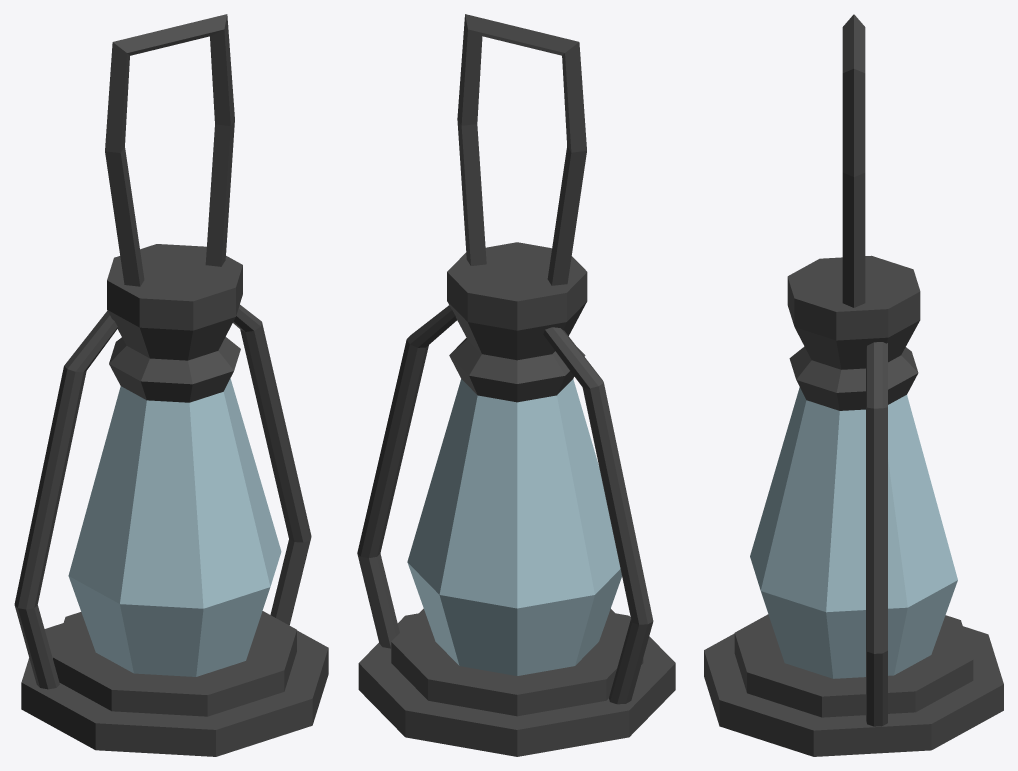
File: Lump_1.fbx
3 views of the same model, side by side, from view 1: azimuth 30°, elevation 25°; view 2: azimuth 150°, elevation 25°; view 3: azimuth 270°, elevation 25° (orthographic). The views are drawn at different scales.
Visible parts, largest first — view 1: Lump_1; view 2: Lump_1; view 3: Lump_1.
Part boxes in pixels (x1,y1,x2,y2): Lump_1: (14,14,328,756); Lump_1: (357,14,675,756); Lump_1: (704,14,1003,756).
Size of the model in its own units: 27.54 by 24.93 by 59.61.
